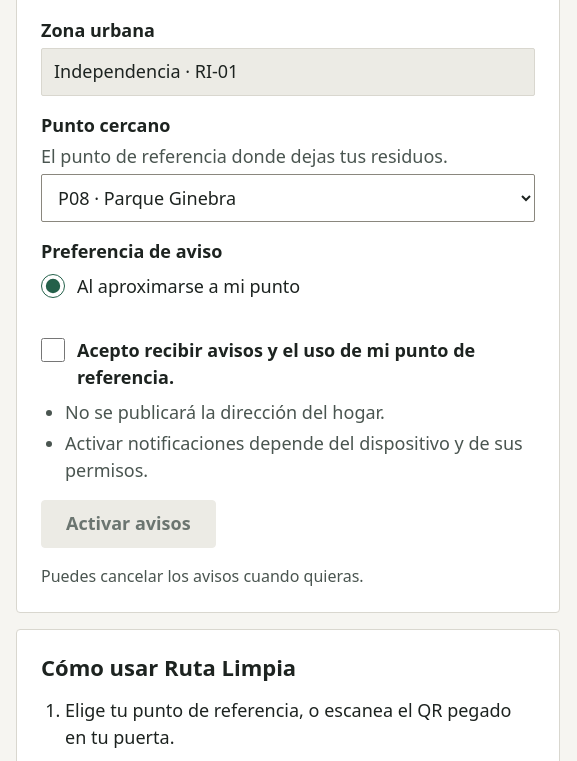
Test: CitizenHomePage › alert subscription › explains a denied permission and keeps the form
This screenshot has width=577, height=761.
(page scrolled)
Click the checkbox labelled "Acepto recibir avisos y el uso de mi punto de referencia.": (53, 350) 41,338 -> 65,362
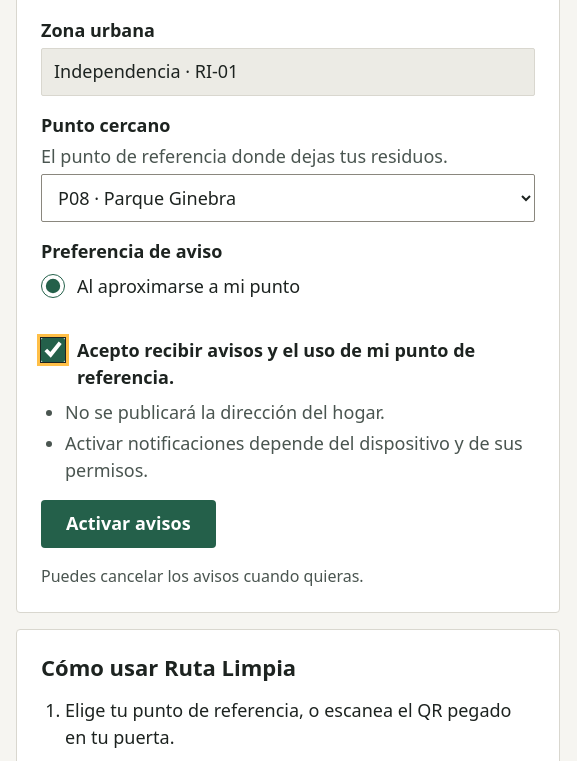
Click the button "Activar avisos": (128, 524) 41,500 -> 216,548
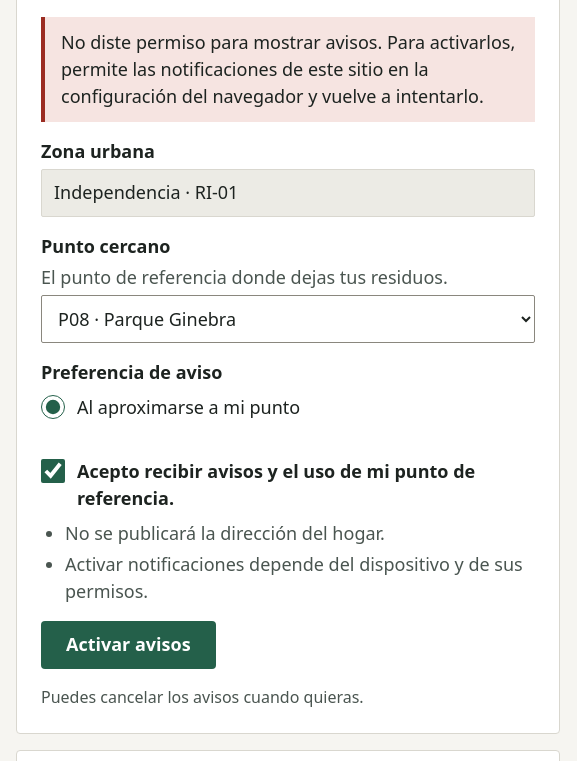
Now the button "Activar avisos" is enabled, box 41,620 -> 216,668
Now the message shows "No diste permiso para mostrar avisos", box 61,30 -> 515,108
